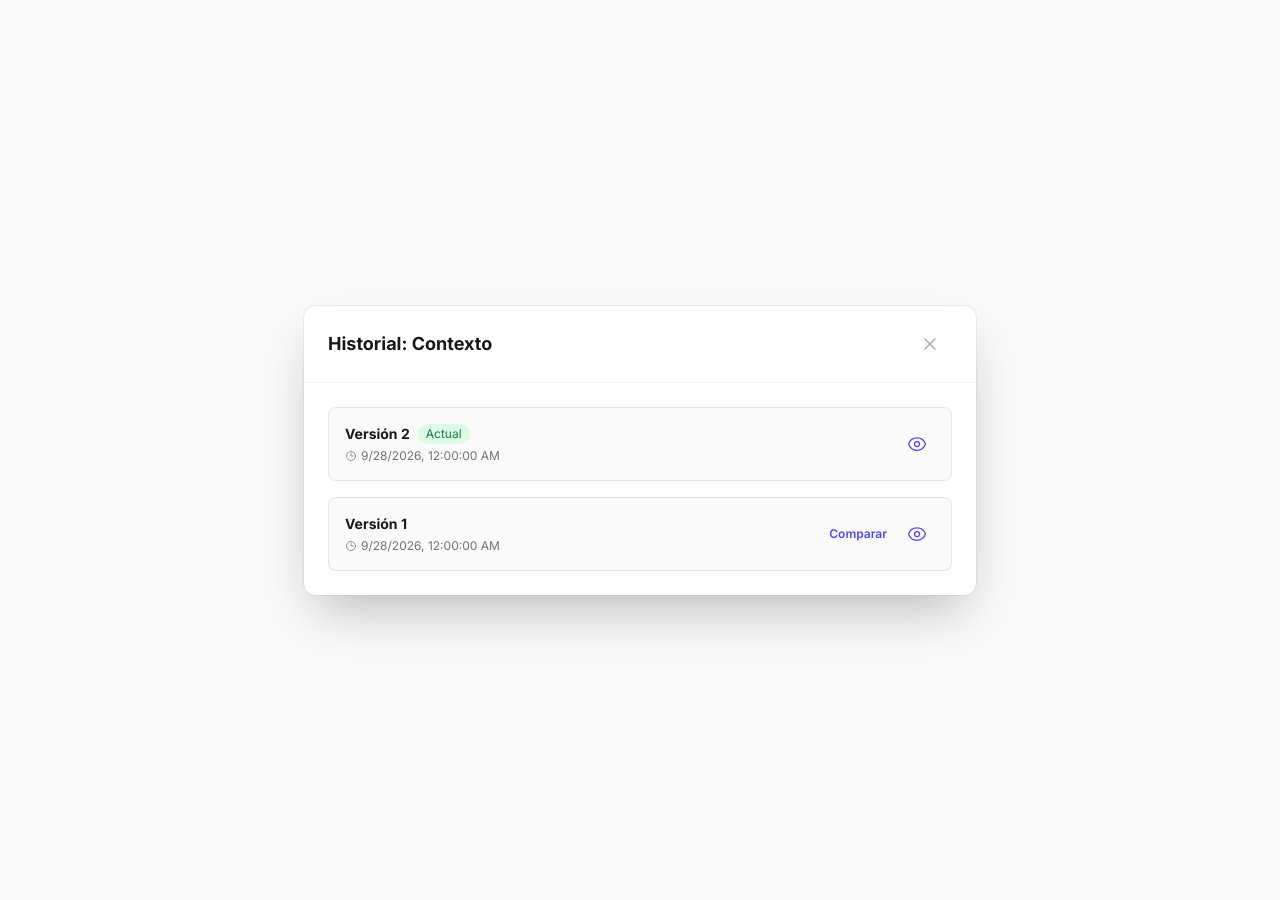
Test case: RealArtifactHistoryModal — comparar › un diagrama se compara como diagrama, y el texto queda a un clic
This screenshot has width=1280, height=900.
Step 1. Click the button "Comparar" → (858, 534), box [821,520,895,548]
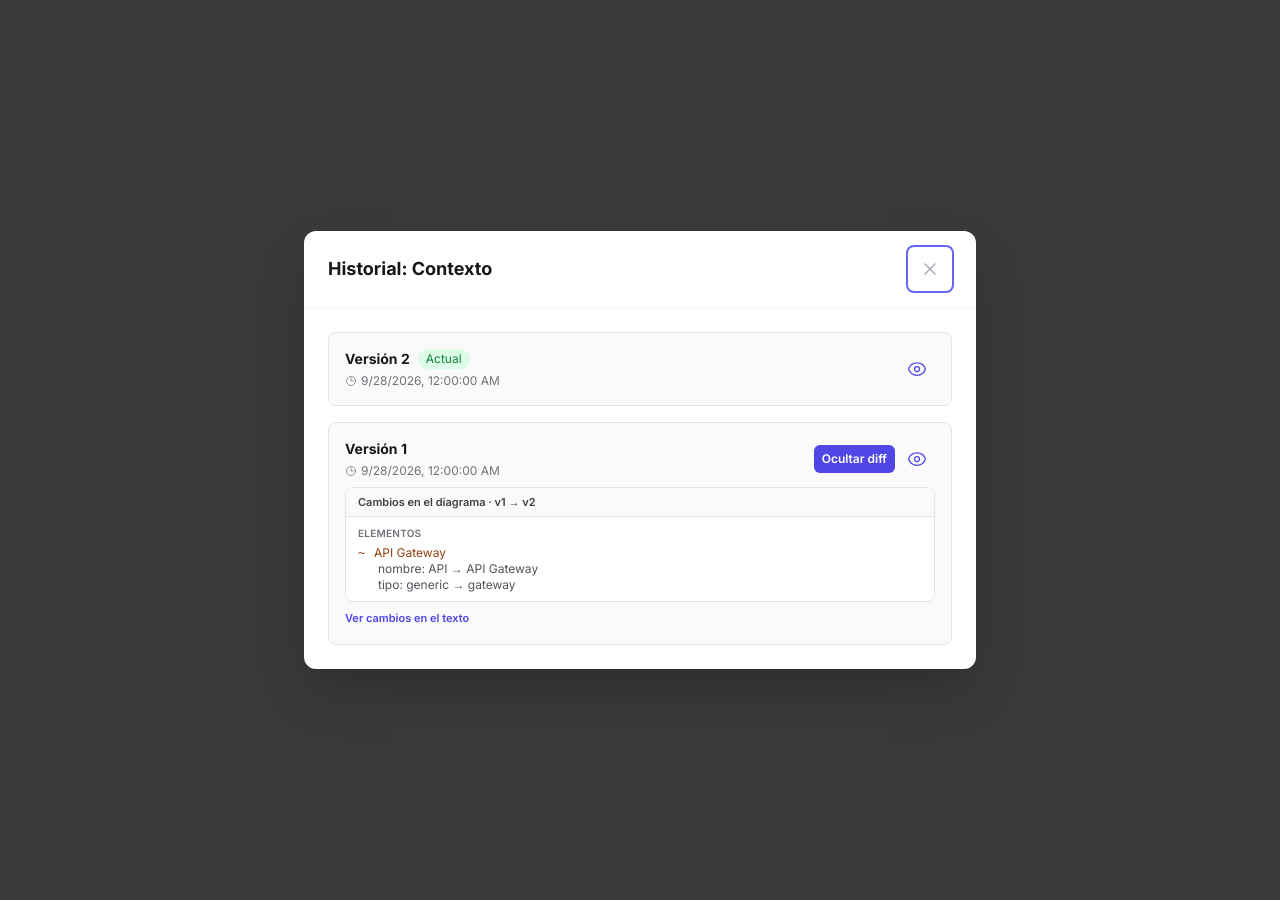
Expected: the text "Cambios en el diagrama · v1 → v2" is shown, [346,488,934,517]
Expected: the list item "nombre: API → API Gateway" is shown, [378,561,538,576]
Step 2. Click the button "Ver cambios en el texto" → (407, 619), box [345,610,469,627]
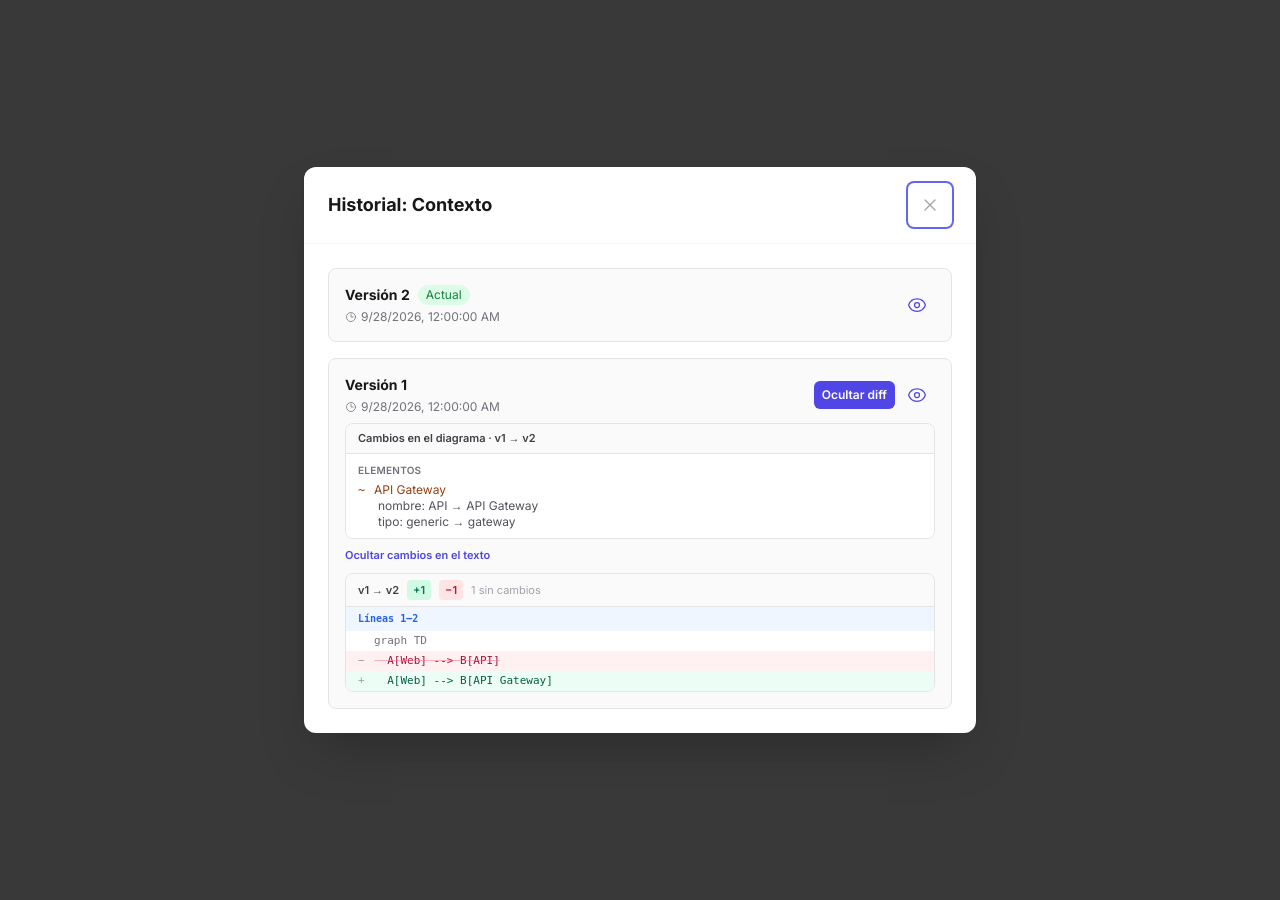
Expected: the text "v1 → v2" is shown, [358,582,399,598]
